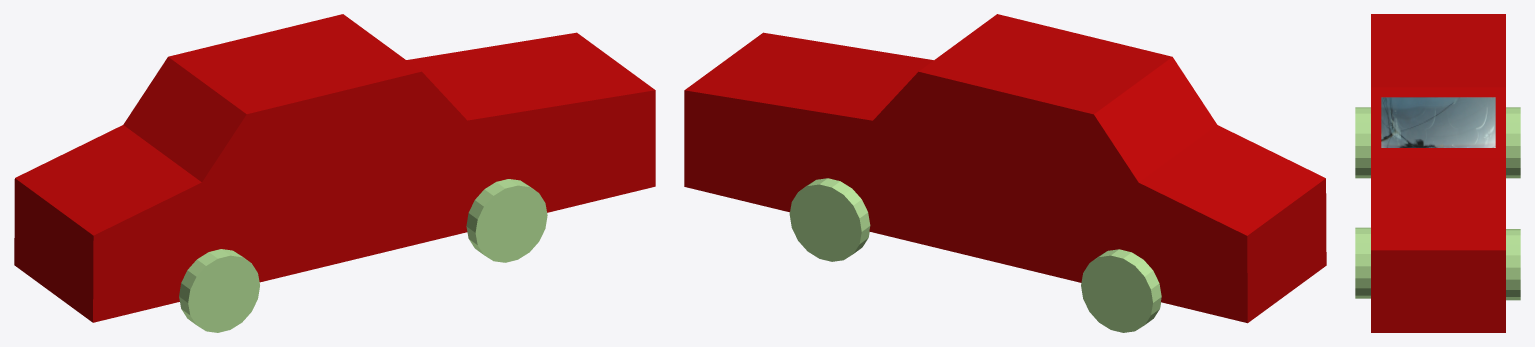
File: original.obj
The picture shows the model from 3 angles, left to right: view 1: azimuth 30°, elevation 25°; view 2: azimuth 150°, elevation 25°; view 3: azimuth 270°, elevation 25°; orthographic projection. The views are drawn at different scales.
Parts seen in each view (by area): view 1: Line001, Cylinder001, Cylinder002; view 2: Line001, Cylinder004, Cylinder003; view 3: Line001, Cylinder001, Cylinder002, Cylinder003, Cylinder004.
Part boxes in pixels (x1,y1,x2,y2): Line001: [14, 14, 655, 322]; Cylinder001: [466, 179, 547, 262]; Cylinder002: [179, 249, 259, 332]; Line001: [684, 14, 1326, 323]; Cylinder004: [789, 178, 870, 261]; Cylinder003: [1081, 249, 1161, 332]; Line001: [1371, 14, 1505, 332]; Cylinder001: [1355, 227, 1370, 298]; Cylinder002: [1355, 107, 1370, 178]; Cylinder003: [1506, 107, 1520, 178]; Cylinder004: [1506, 229, 1520, 300].
Size of the model in its own units: 252 by 86.69 by 74.74.
Materials: 3 (1 with a texture image).
